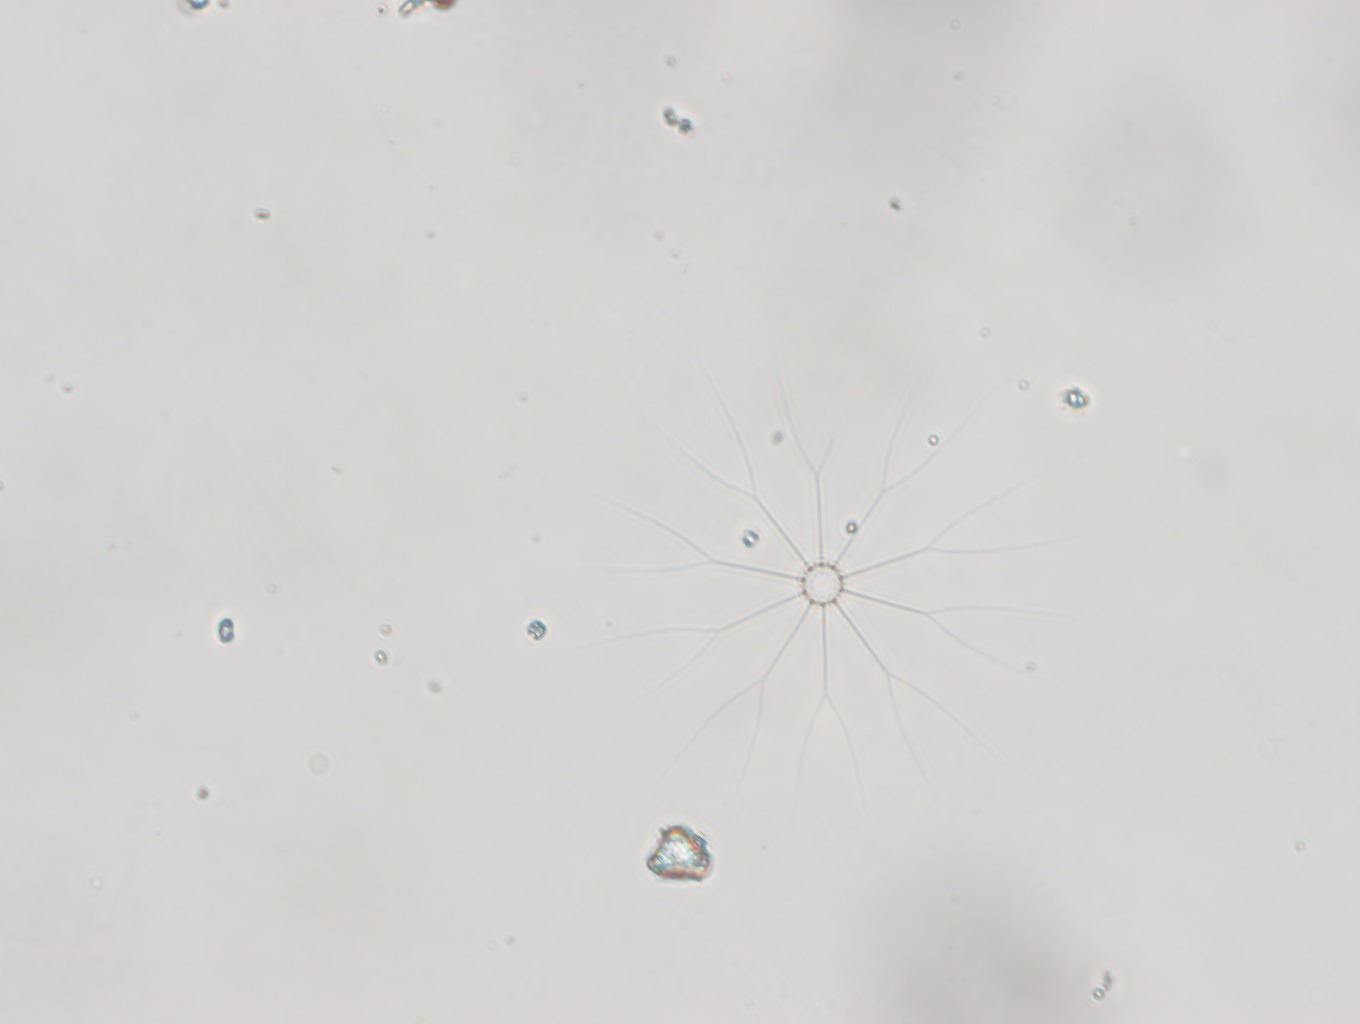bacteriastrum: (604, 355, 1055, 821)
